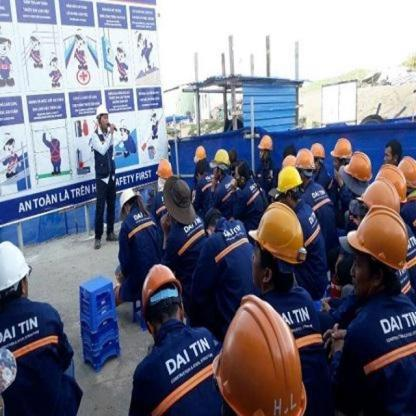bota: (106, 229, 120, 247), (90, 238, 106, 252)
capacete: (208, 292, 310, 416), (342, 201, 409, 301), (247, 200, 307, 295), (138, 261, 188, 345), (1, 237, 36, 301), (361, 177, 402, 214), (374, 163, 408, 203), (90, 100, 119, 136), (117, 184, 144, 220), (344, 151, 374, 182), (271, 172, 304, 193), (396, 155, 416, 186), (294, 149, 313, 177), (330, 136, 352, 160), (156, 155, 174, 182), (258, 132, 272, 163), (190, 142, 206, 166), (312, 140, 327, 163), (214, 150, 231, 169), (281, 154, 299, 169)
